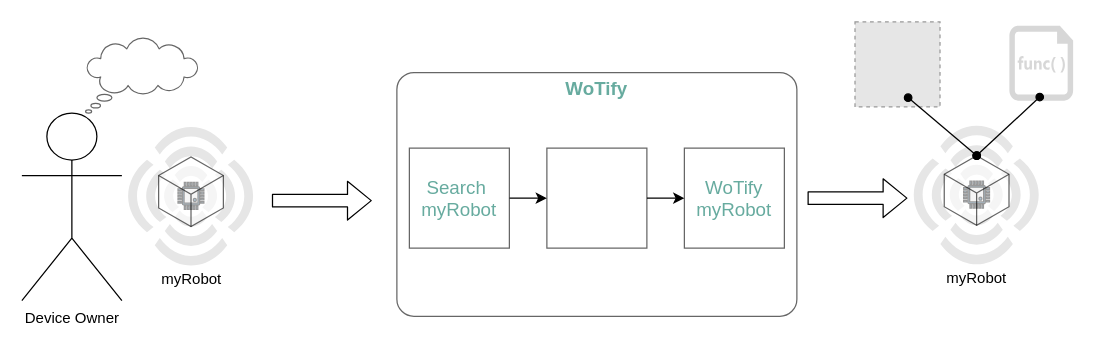
Image size: 1095x349. Some labels were removed from this diagram. Grey dashed boxes stand in for pictures. The shapes that lost their labels are listed below. From the top down, each one's centre as x and y in pixels, then its label:
the point at 141,75: WoT?
the point at 596,197: Pick Project
